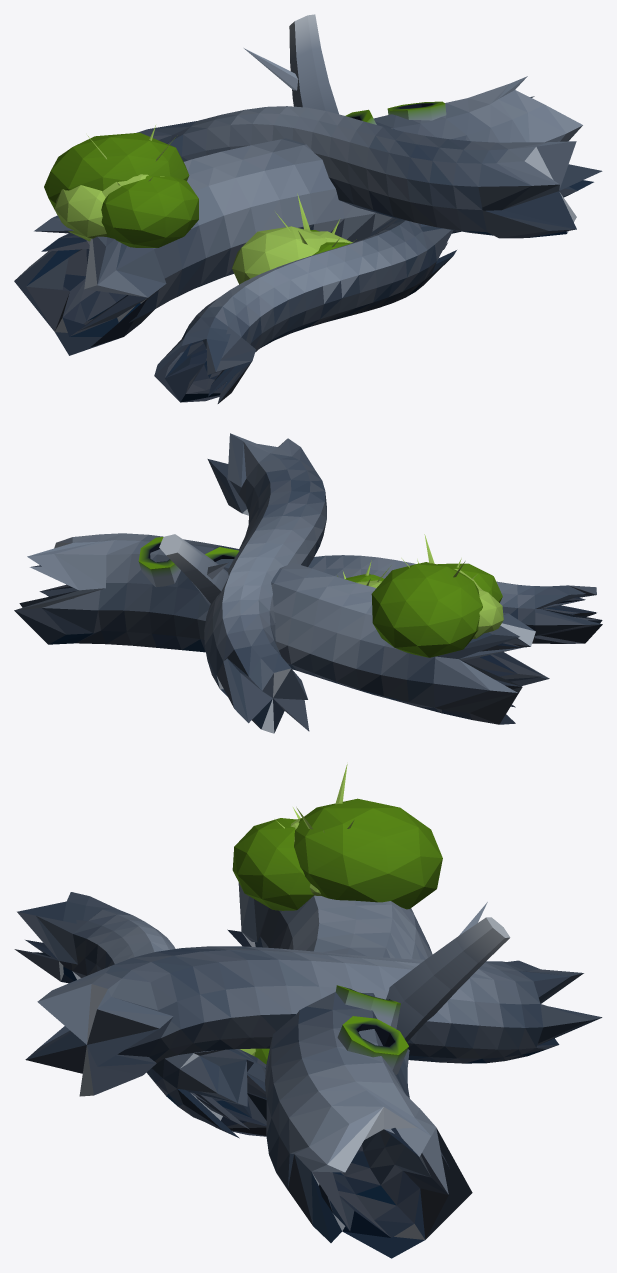
File: pohon_tumbang_logjam_driftwood_3219 (1).glb
The picture shows the model from 3 angles, top to bottom: view 1: azimuth 30°, elevation 25°; view 2: azimuth 150°, elevation 25°; view 3: azimuth 270°, elevation 25°; orthographic projection. The views are drawn at different scales.
Parts seen in each view (by area): view 1: Tumpukan_Kayu_Hanyut; view 2: Tumpukan_Kayu_Hanyut; view 3: Tumpukan_Kayu_Hanyut.
Part boxes in pixels (box(x1,y1,x2,y2)): Tumpukan_Kayu_Hanyut: box(14, 14, 602, 403); Tumpukan_Kayu_Hanyut: box(14, 433, 602, 733); Tumpukan_Kayu_Hanyut: box(14, 764, 602, 1258).
Size of the model in its own units: 4.69 by 1.6 by 3.61.
